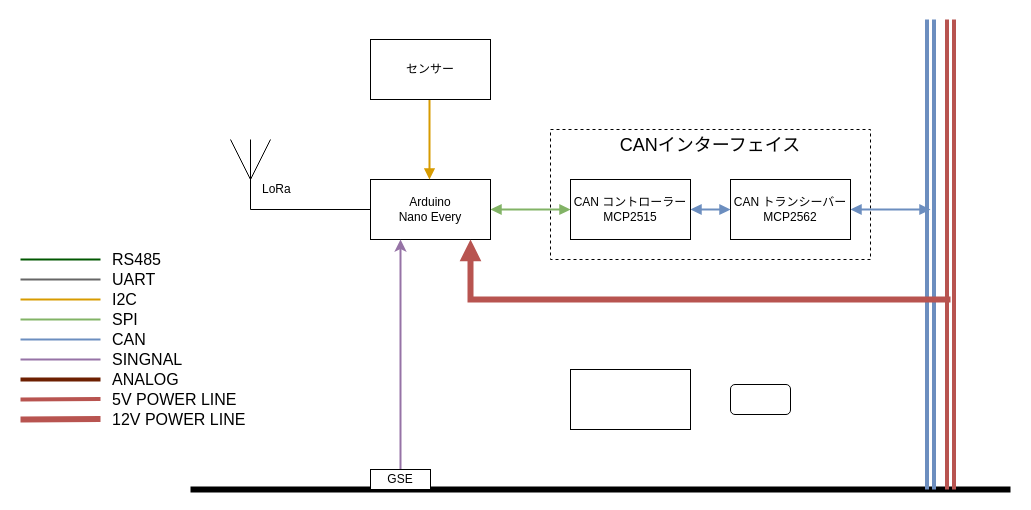
Image size: 1031x510. Some labels were removed from this diagram. Each missing label, with the centre of its shape:
"LPF" belongs at point 760,399.
"フォトカプラ" belongs at point 630,399.
